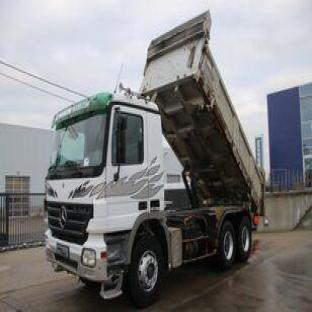Vehicle: (32, 45, 288, 256)
